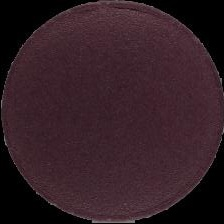52125-556: (0, 0, 224, 224)
